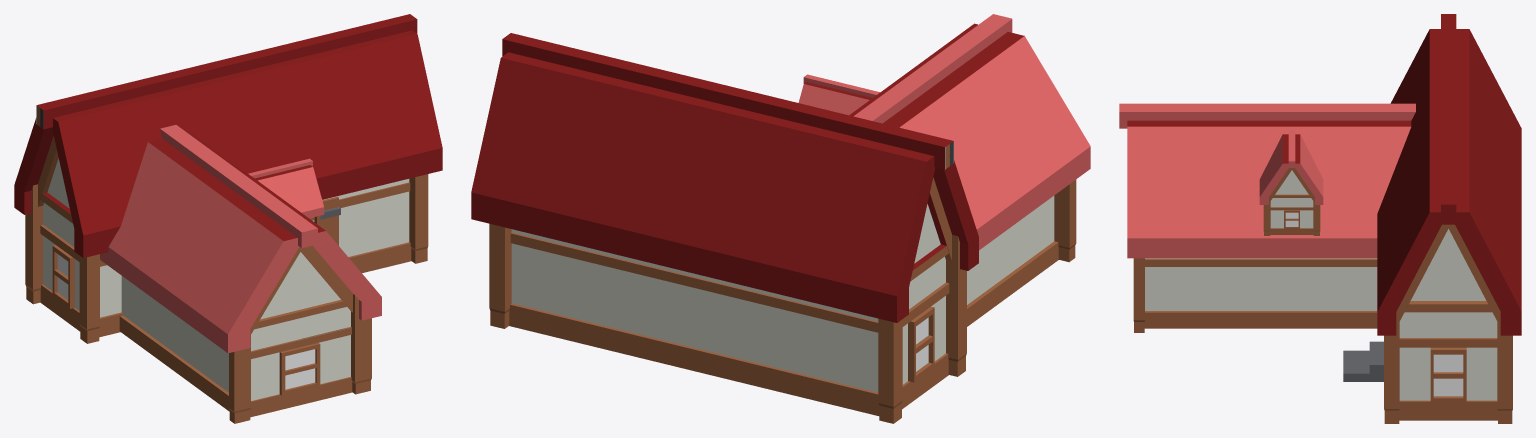
File: casaTest2.fbx
The picture shows the model from 3 angles, left to right: view 1: azimuth 30°, elevation 25°; view 2: azimuth 150°, elevation 25°; view 3: azimuth 270°, elevation 25°; orthographic projection. The views are drawn at different scales.
Visible parts, largest first — view 1: pCube45; view 2: pCube45; view 3: pCube45.
Boxes of the visible parts, x1,y1,x2,y2 form: pCube45: (14, 14, 442, 423); pCube45: (471, 14, 1090, 423); pCube45: (1119, 14, 1521, 423).
Size of the model in its own units: 12.53 by 7 by 11.17.
